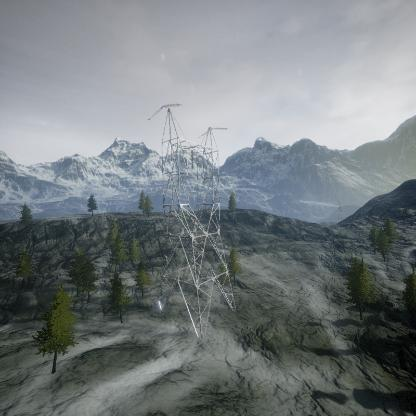tower: (149, 102, 239, 347)
